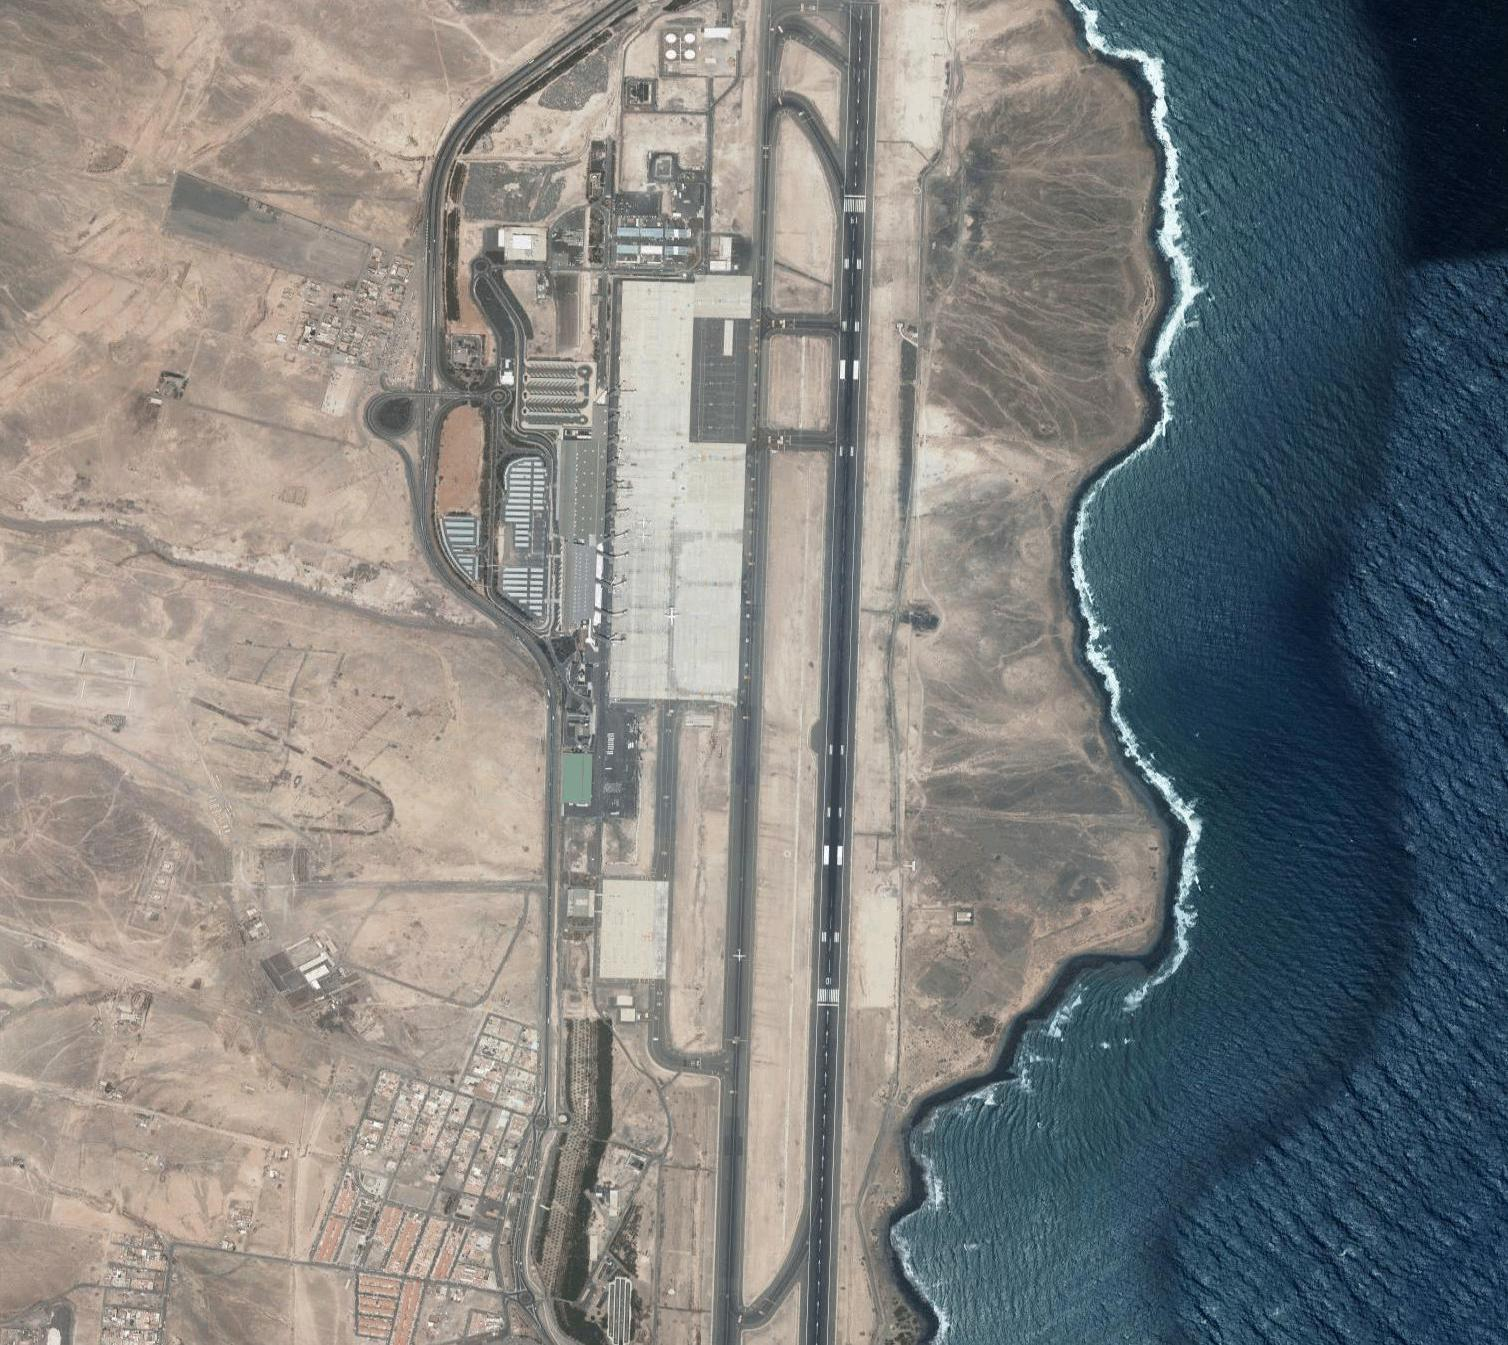airport: (600, 1, 902, 1345)
